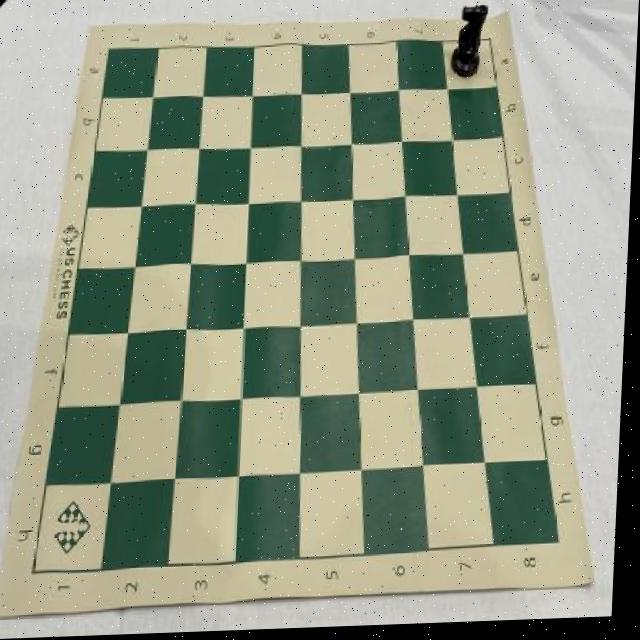black-king: (450, 7, 489, 84)
